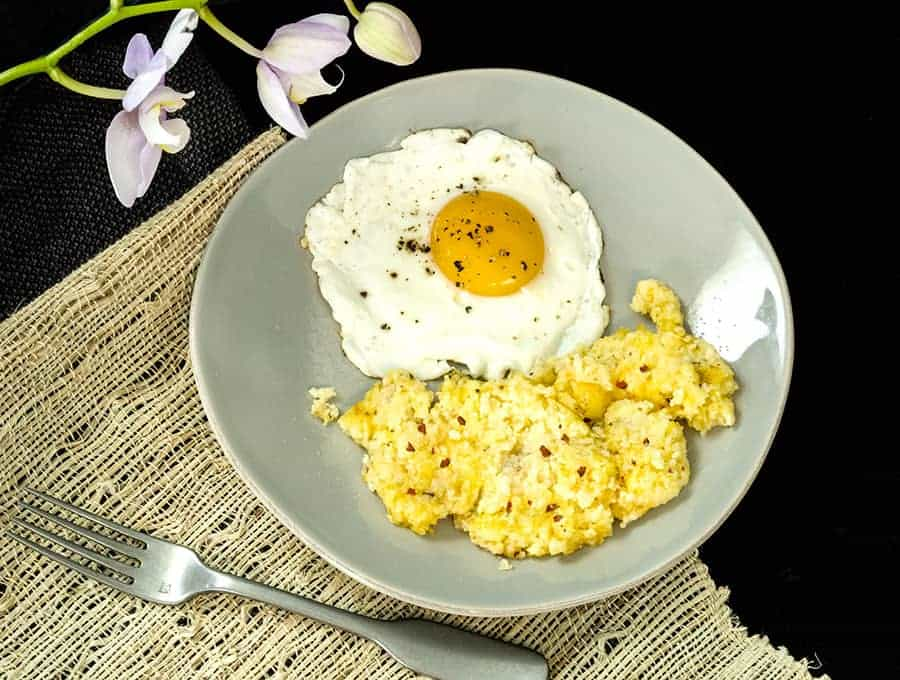cheese: (375, 357, 698, 494)
